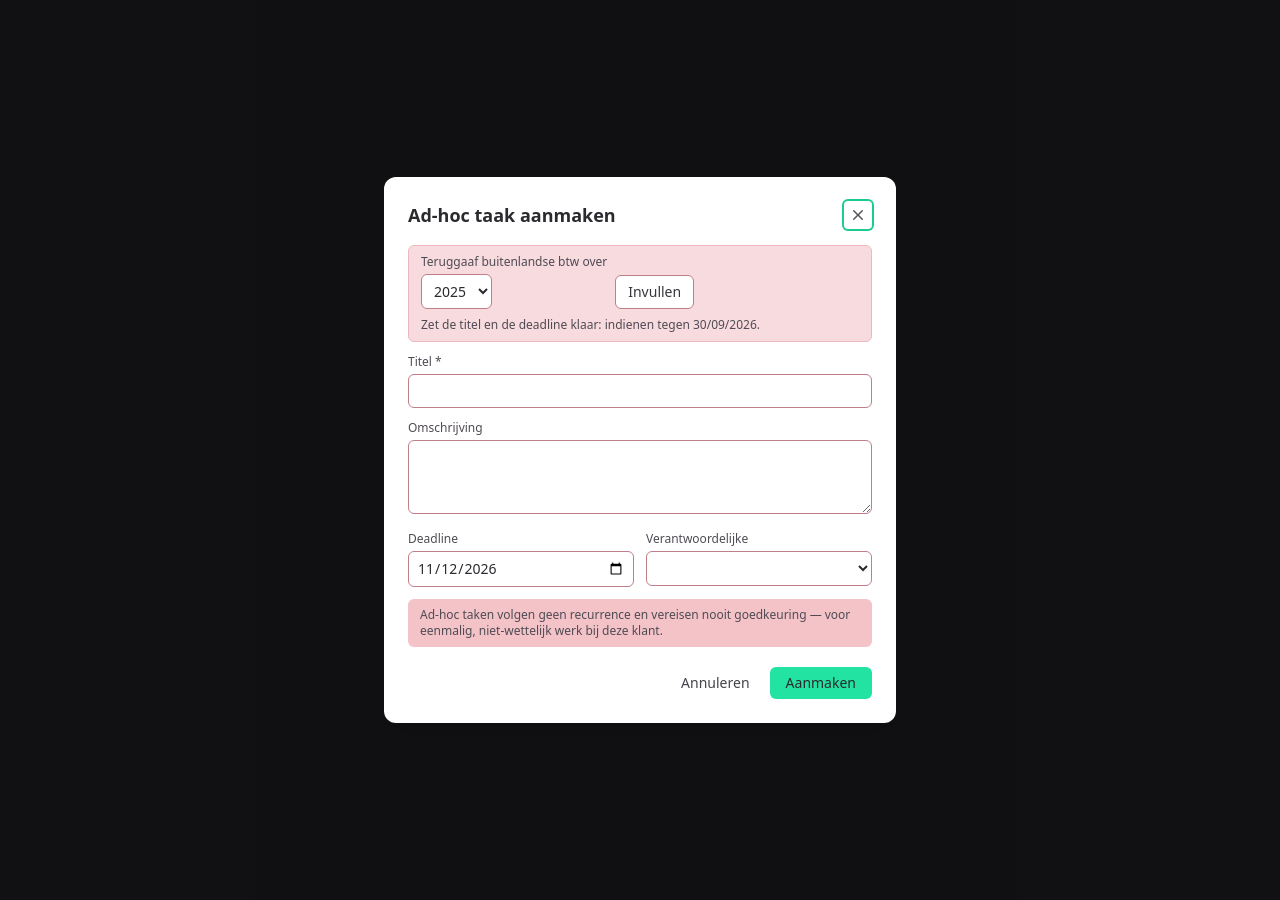
AdhocTaskFormModal — validation (§2.7: ad-hoc requires a free title) › requires an assignee to be chosen when the employee list is empty and no default is given
The image size is (1280, 900).
Type "Bel de klant" into the field labelled "Titel *" at (640, 391), box [408,374,872,408]
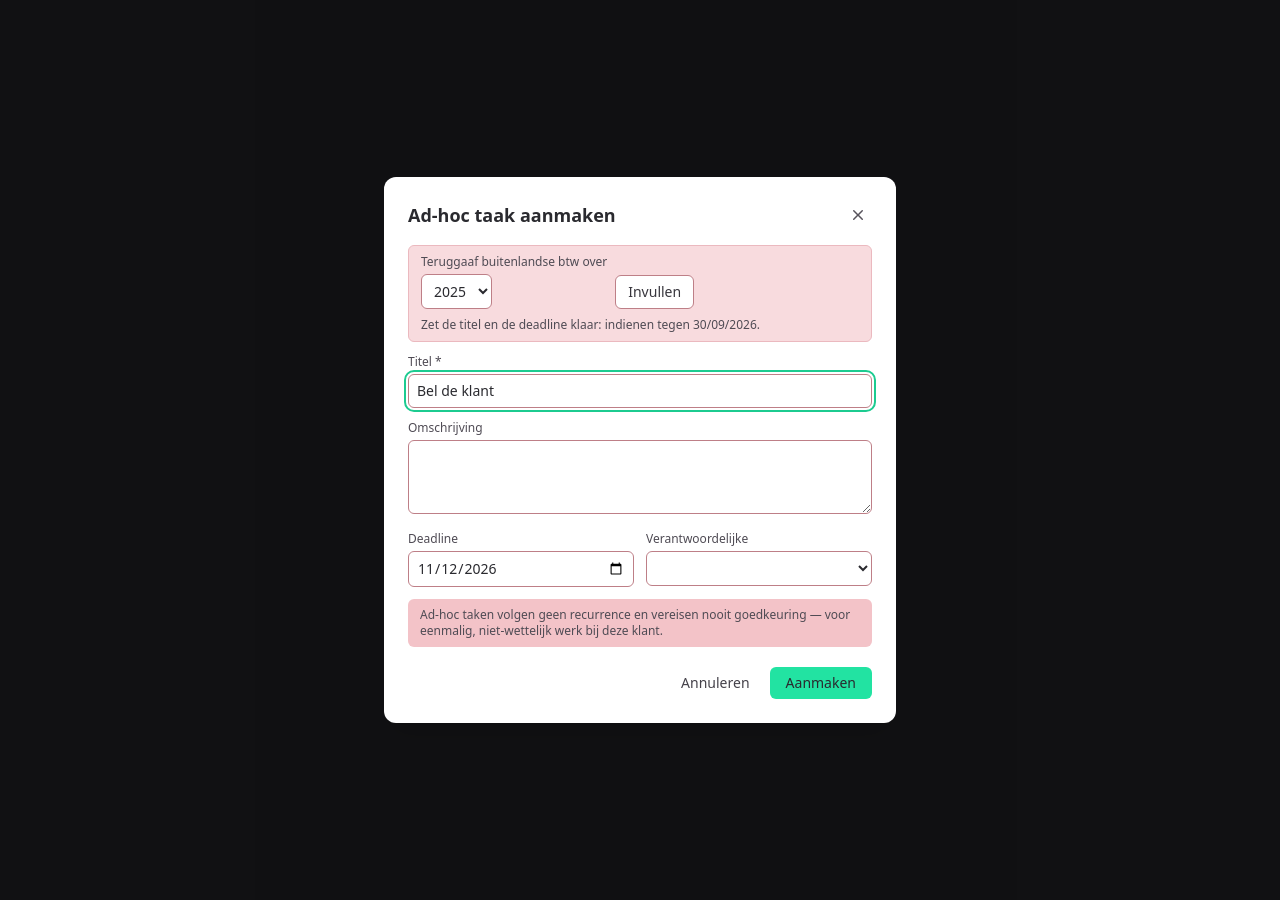
Click the button "Aanmaken" at (821, 683), box [770,667,872,699]
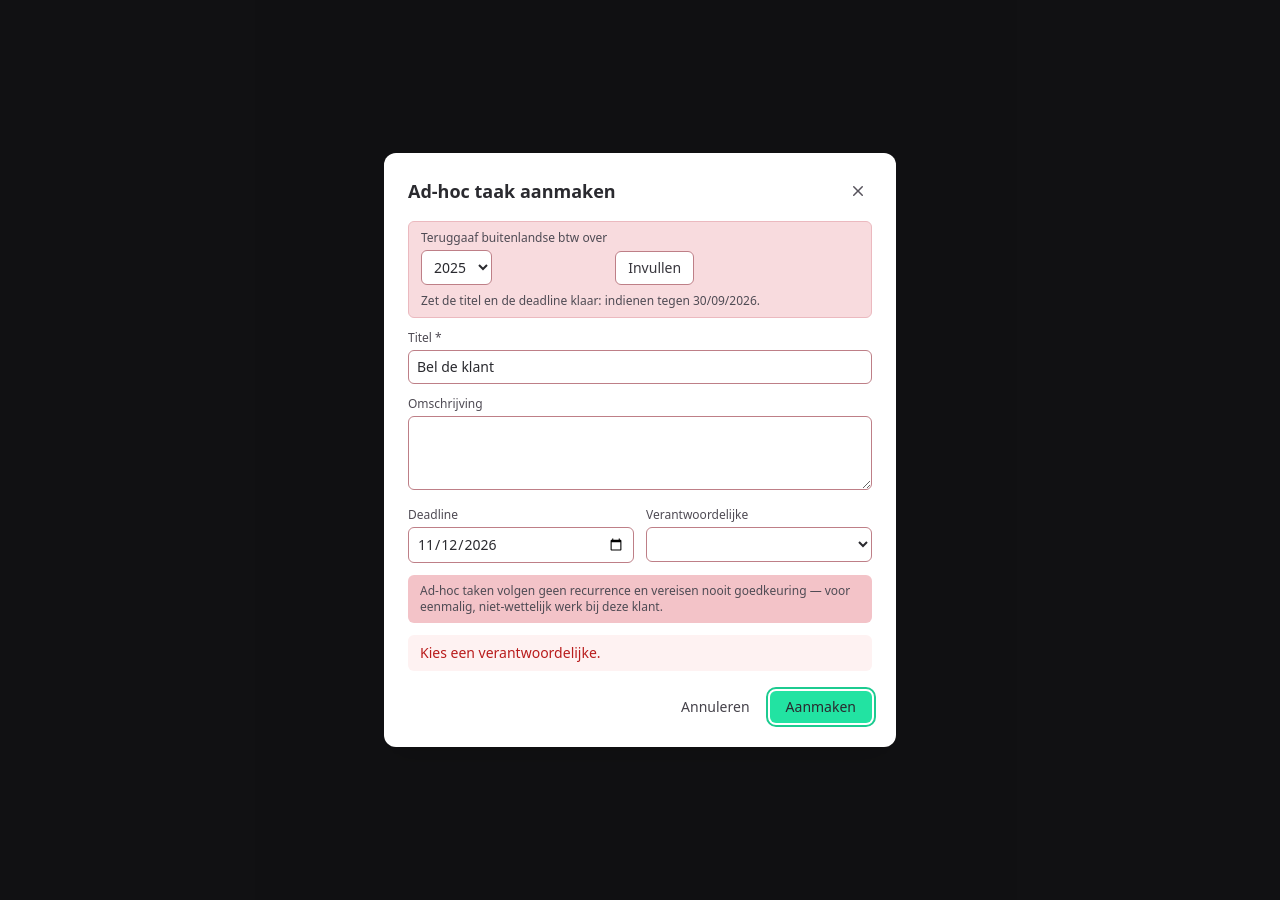
Now the message reads "Kies een verantwoordelijke.", box [420,643,601,662]
